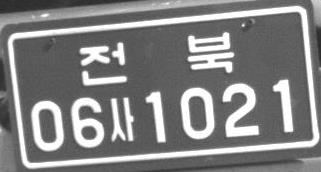0: (179, 85, 216, 140), (30, 98, 64, 152)
1: (267, 78, 300, 133), (141, 90, 171, 142)
2: (222, 82, 260, 139)
6: (71, 96, 105, 149)
사: (109, 97, 135, 142)
전북_D: (79, 31, 238, 86)
